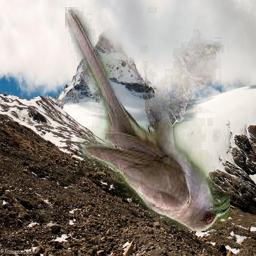Cuckoo: (66, 7, 231, 231)
